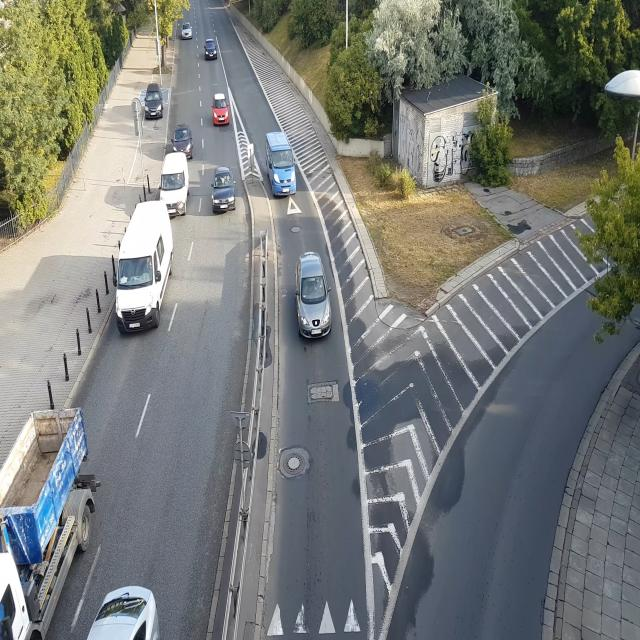car: (111, 211, 168, 327), (90, 582, 155, 640), (296, 254, 332, 340), (266, 135, 298, 198), (158, 152, 190, 215), (213, 170, 236, 214), (144, 85, 164, 118), (211, 95, 229, 125), (172, 127, 190, 154), (203, 38, 217, 58), (177, 20, 192, 37)
truck: (0, 370, 80, 640)
